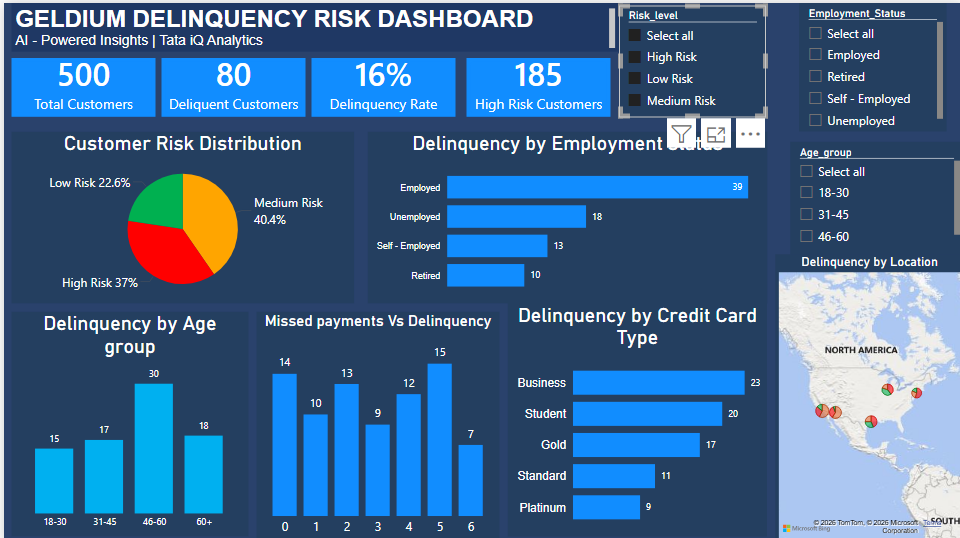

This screenshot's page, from the dashboard's own definition file:
{"tool":"powerbi","page":{"name":"Page 1","canvas":[1280,720],"ordinal":0},"visuals":[{"type":"textbox","box":[10,0,810,65],"z":0},{"type":"cardVisual","fields":{"Data":["CountNonNull(Delinquency_prediction_dataset.Customer_ID)"]},"box":[10,74,192,78],"z":1000},{"type":"cardVisual","fields":{"Data":["Delinquency_prediction_dataset.Deliquent Customers"]},"box":[210,74,192,78],"z":2000},{"type":"cardVisual","fields":{"Data":["Delinquency_prediction_dataset.Delinquency Rate"]},"box":[410,74,192,78],"z":3000},{"type":"cardVisual","fields":{"Data":["CountNonNull(Delinquency_prediction_dataset.Customer_ID)"]},"box":[617.5,74.1,192.1,78.2],"z":4000},{"type":"pieChart","title":"Customer Risk Distribution","fields":{"Y":["CountNonNull(Delinquency_prediction_dataset.Customer_ID)"],"Category":["Delinquency_prediction_dataset.Risk_level"]},"box":[9.6,171.5,456.9,229.2],"z":5000},{"type":"clusteredBarChart","title":"Delinquency by Employment status","fields":{"Category":["Delinquency_prediction_dataset.Employment_Status"],"Y":["Delinquency_prediction_dataset.Deliquent Customers"]},"box":[484.3,171.4,532.9,228.6],"z":6000},{"type":"clusteredColumnChart","title":"Delinquency by Age group","fields":{"Category":["Delinquency_prediction_dataset.Age_group"],"Y":["Delinquency_prediction_dataset.Deliquent Customers"]},"box":[9.6,411.7,315.6,299.1],"z":7000},{"type":"clusteredColumnChart","title":"Missed payments Vs Delinquency","fields":{"Category":["Delinquency_prediction_dataset.Missed_Payments"],"Y":["Delinquency_prediction_dataset.Deliquent Customers"]},"box":[337.1,411.4,324.3,308.6],"z":8000},{"type":"clusteredBarChart","title":"Delinquency by Credit Card Type","fields":{"Category":["Delinquency_prediction_dataset.Credit_Card_Type"],"Y":["Delinquency_prediction_dataset.Deliquent Customers"]},"box":[671.4,400,345.7,311.4],"z":9000},{"type":"map","title":"Delinquency by Location","fields":{"Category":["Delinquency_prediction_dataset.Location"],"Series":["Delinquency_prediction_dataset.Risk_level"],"Size":["Delinquency_prediction_dataset.Deliquent Customers"]},"box":[1028.3,335,251.7,385],"z":10000},{"type":"slicer","fields":{"Values":["Delinquency_prediction_dataset.Risk_level"]},"box":[820,2.9,197.1,150],"z":11000},{"type":"slicer","fields":{"Values":["Delinquency_prediction_dataset.Employment_Status"]},"box":[1060,0,197.1,171.4],"z":12000},{"type":"slicer","fields":{"Values":["Delinquency_prediction_dataset.Age_group"]},"box":[1048.6,184.3,231.4,150],"z":13000}]}

Visuals, with their boxes in screenshot pixels (x1, y1, x2, y2), scaled from the page's 1280x720 canvas onto the 960x538 screenshot:
textbox: rect(8, 0, 615, 49)
cardVisual - CountNonNull(Delinquency_prediction_dataset.Customer_ID): rect(8, 55, 152, 114)
cardVisual - Delinquency_prediction_dataset.Deliquent Customers: rect(158, 55, 302, 114)
cardVisual - Delinquency_prediction_dataset.Delinquency Rate: rect(308, 55, 452, 114)
cardVisual - CountNonNull(Delinquency_prediction_dataset.Customer_ID): rect(463, 55, 607, 114)
"Customer Risk Distribution" pieChart: rect(7, 128, 350, 299)
"Delinquency by Employment status" clusteredBarChart: rect(363, 128, 763, 299)
"Delinquency by Age group" clusteredColumnChart: rect(7, 308, 244, 531)
"Missed payments Vs Delinquency" clusteredColumnChart: rect(253, 307, 496, 537)
"Delinquency by Credit Card Type" clusteredBarChart: rect(504, 299, 763, 532)
"Delinquency by Location" map: rect(771, 250, 959, 537)
slicer - Delinquency_prediction_dataset.Risk_level: rect(615, 2, 763, 114)
slicer - Delinquency_prediction_dataset.Employment_Status: rect(795, 0, 943, 128)
slicer - Delinquency_prediction_dataset.Age_group: rect(786, 138, 959, 250)
